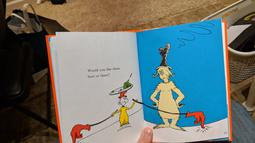text block: (86, 65, 122, 81)
